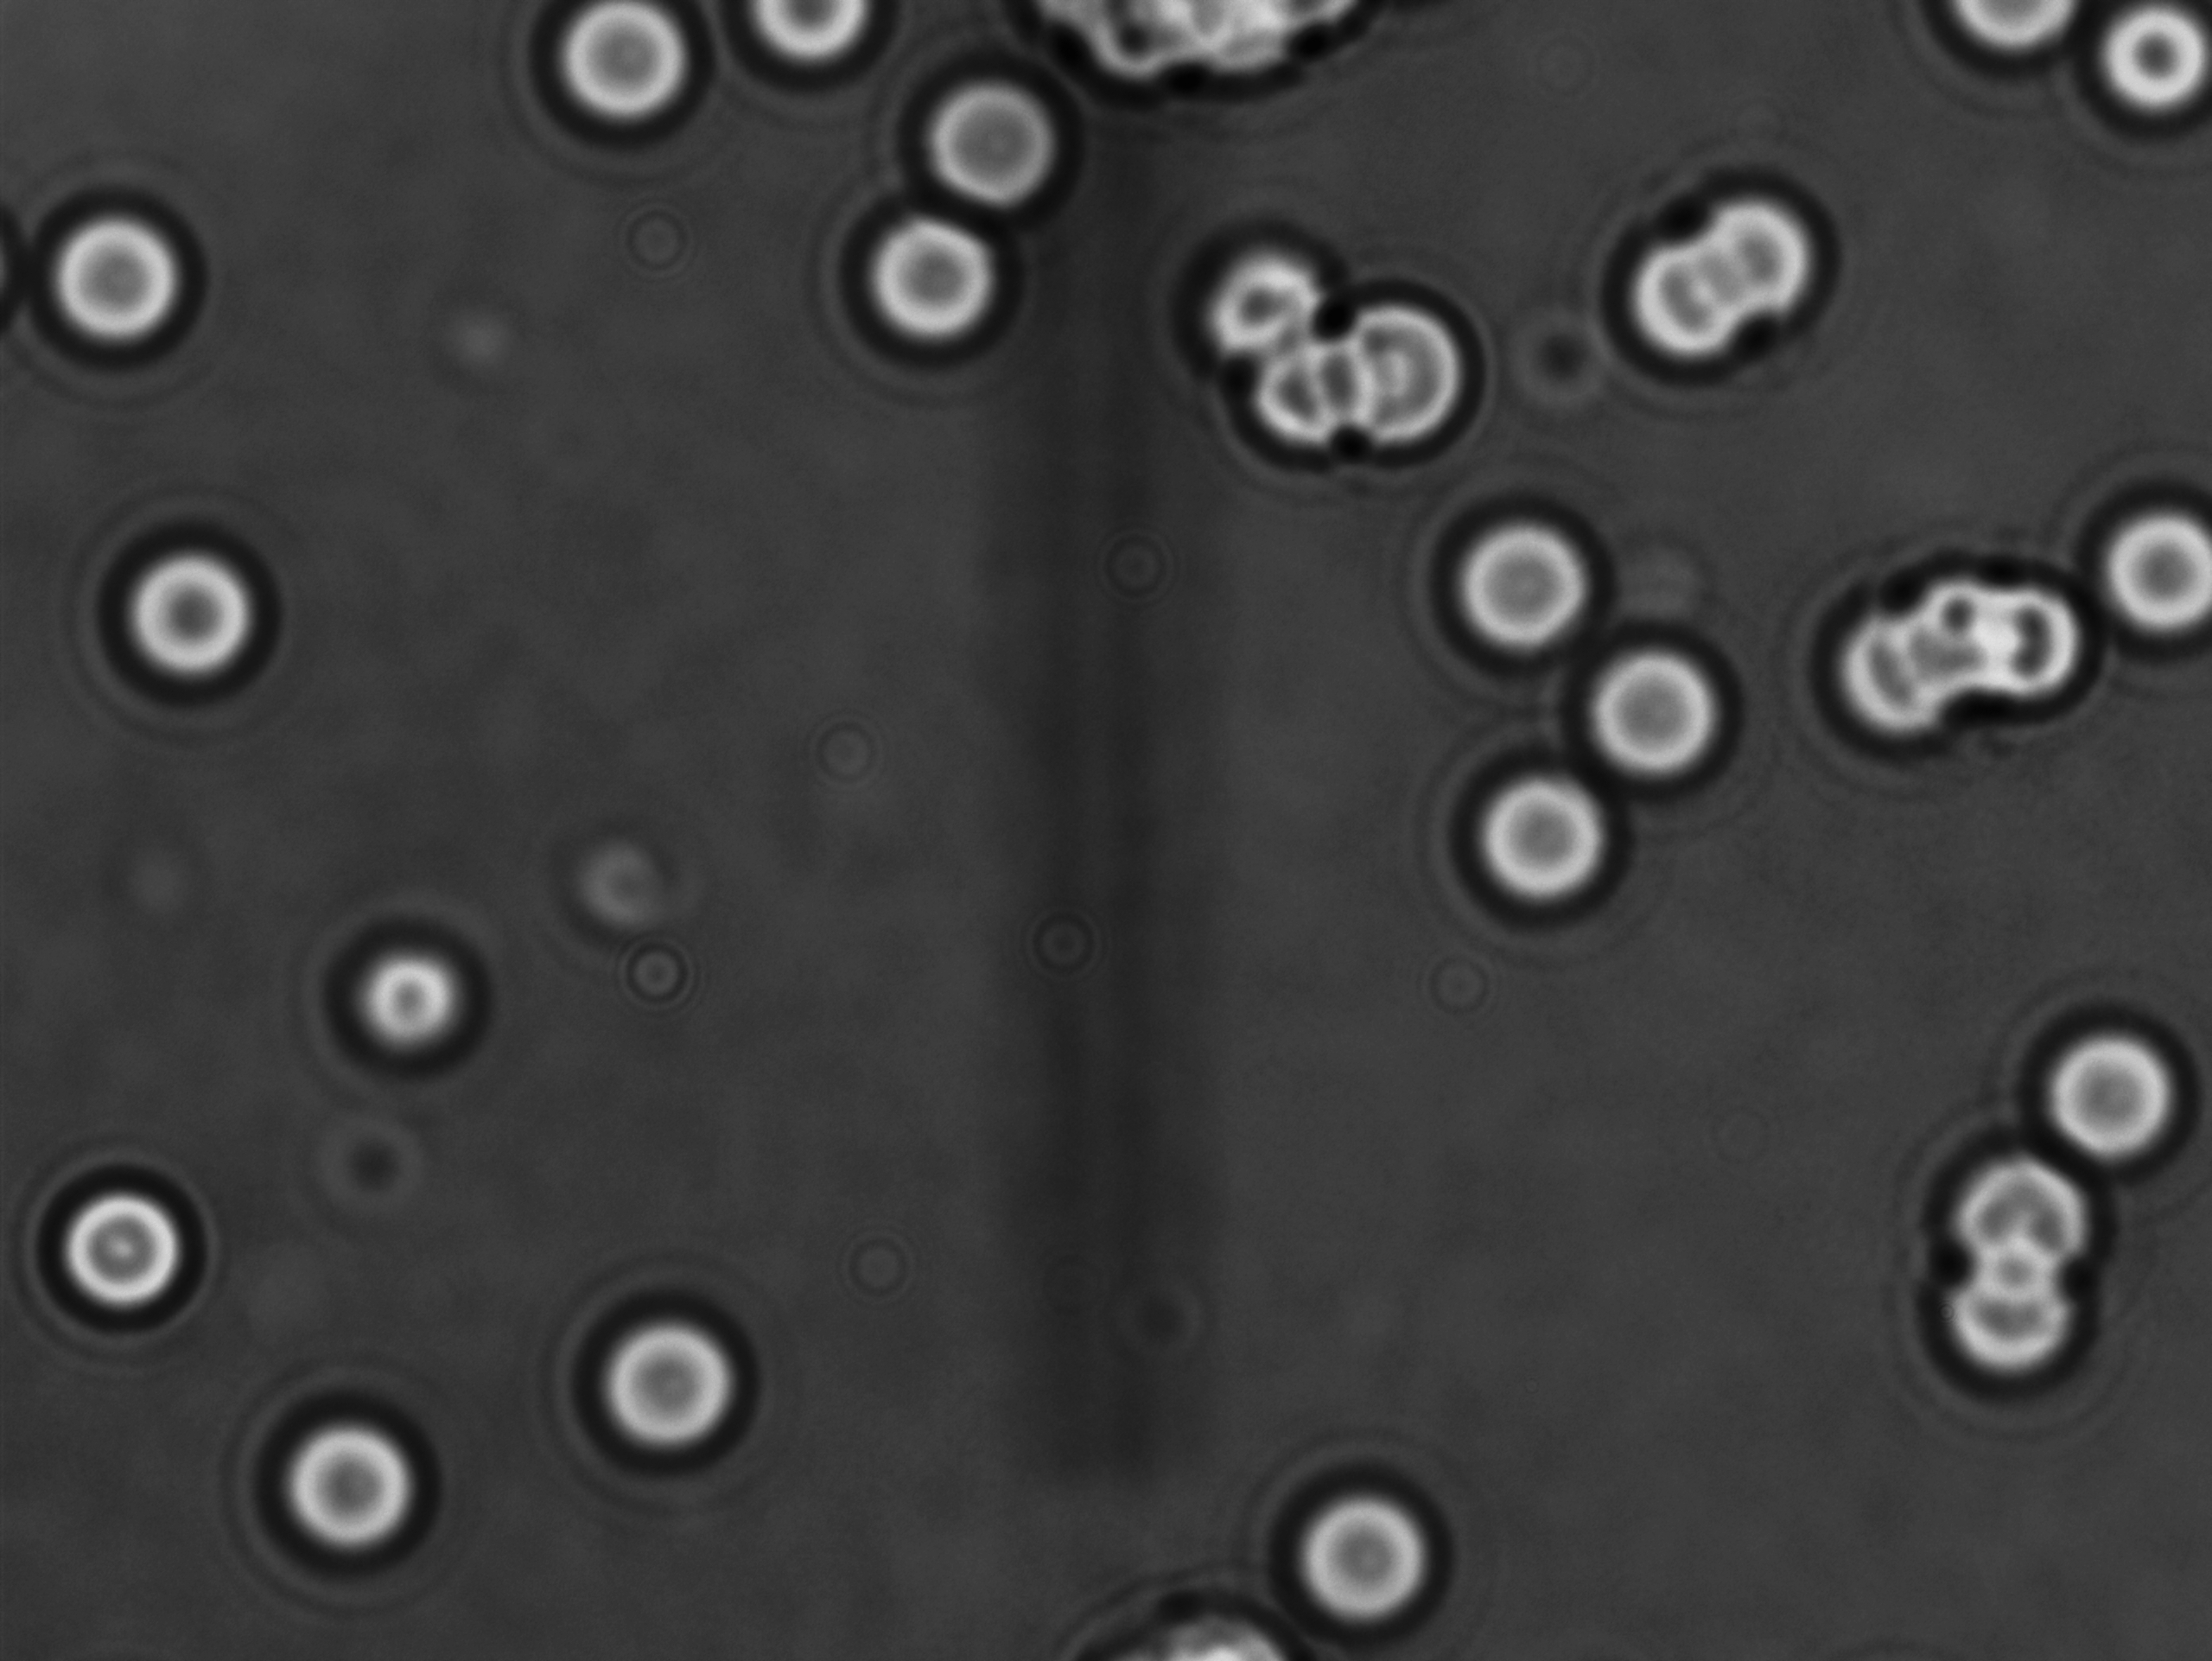depth:40: (21, 1146, 215, 1340)
depth:60: (546, 1256, 792, 1495), (84, 504, 307, 736), (244, 1375, 462, 1605), (816, 187, 1026, 394), (1443, 740, 1652, 946), (2011, 979, 2212, 1190), (1422, 485, 1629, 677), (24, 183, 227, 377), (904, 47, 1104, 232), (1280, 1445, 1467, 1642), (1575, 614, 1771, 796), (2071, 448, 2212, 654)
